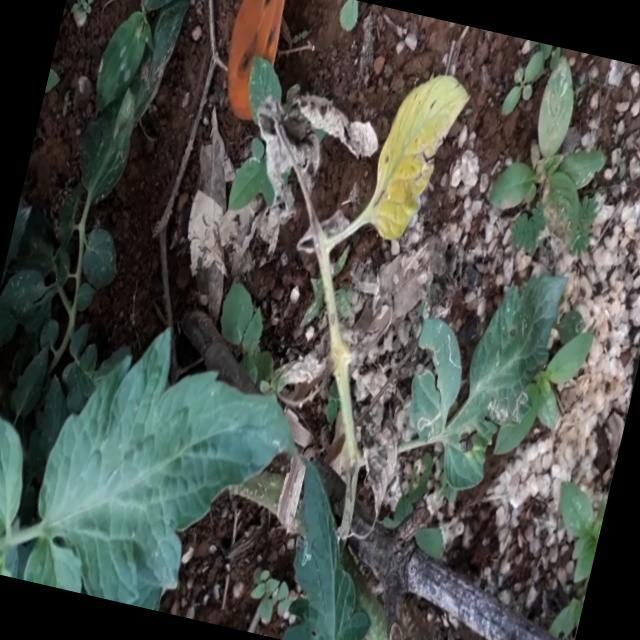Tomato target spot leaf: (435, 256, 568, 504), (261, 457, 403, 640), (395, 312, 476, 452)
